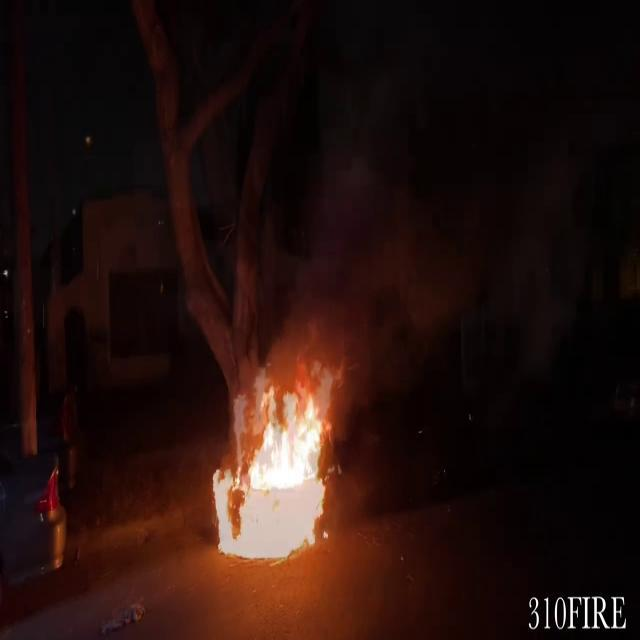Fire: (208, 366, 349, 570)
